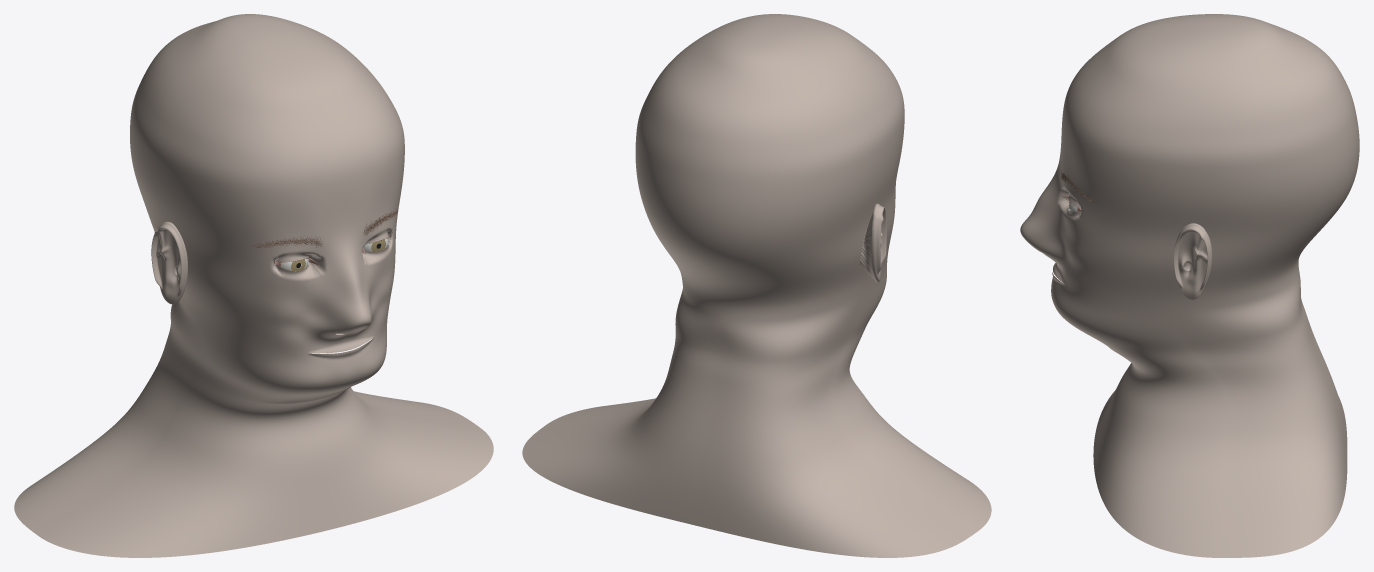
File: head.glb
3 views of the same model, side by side, from view 1: azimuth 30°, elevation 25°; view 2: azimuth 150°, elevation 25°; view 3: azimuth 270°, elevation 25° (orthographic). The views are drawn at different scales.
Parts seen in each view (by area): view 1: Continuous_anatomical_skin; view 2: Continuous_anatomical_skin; view 3: Continuous_anatomical_skin.
Part boxes in pixels (x1=…): Continuous_anatomical_skin: x1=14, y1=14, x2=493, y2=557; Continuous_anatomical_skin: x1=522, y1=14, x2=991, y2=557; Continuous_anatomical_skin: x1=1020, y1=14, x2=1359, y2=557.
Bounding box in the file's own units: 0.342 × 0.334 × 0.2392.
